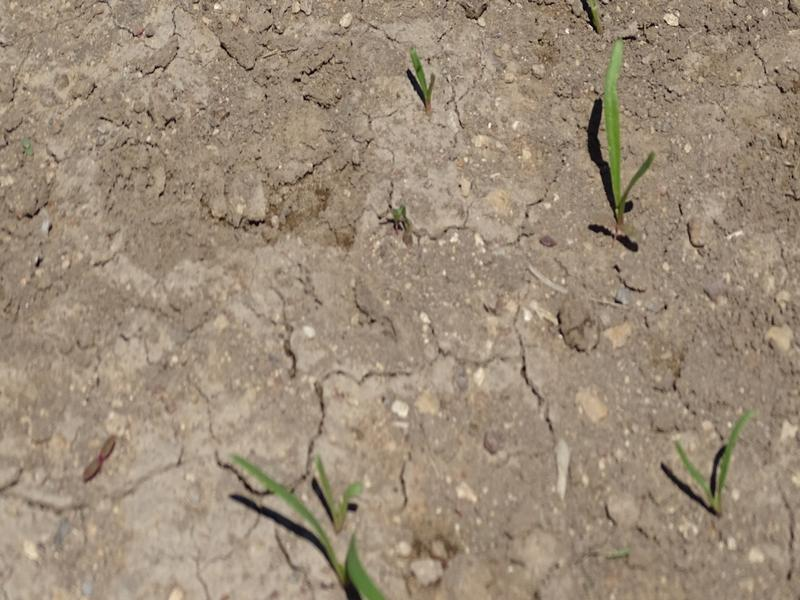Espinaca: (233, 446, 389, 596), (597, 37, 652, 221), (676, 410, 747, 501), (404, 47, 446, 106)
